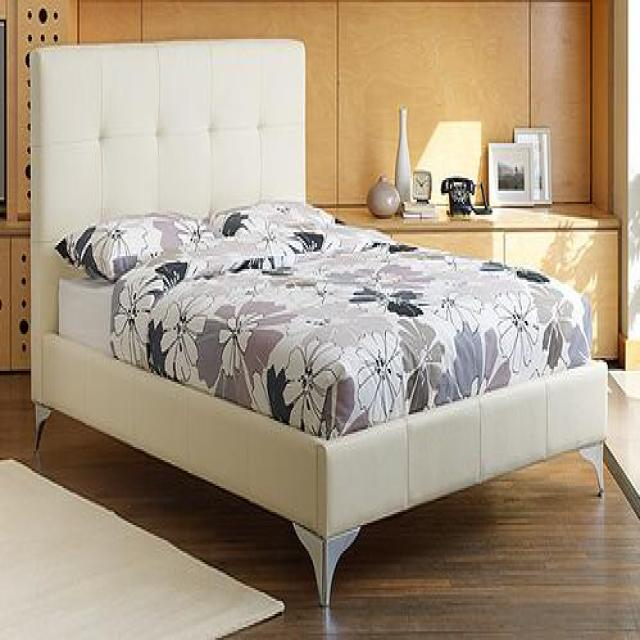bed: (31, 41, 608, 609)
